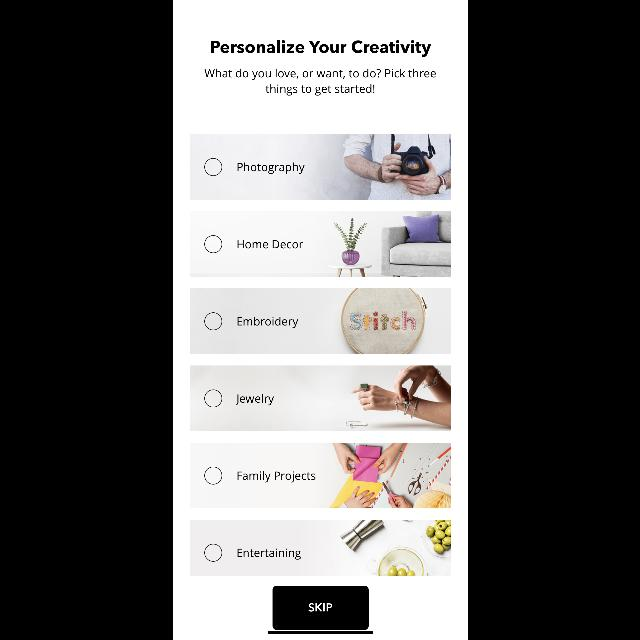backgroundimage: (190, 134, 450, 200), (190, 288, 450, 354), (190, 442, 450, 508), (190, 212, 450, 276), (190, 366, 450, 430), (190, 520, 450, 576)
checkbox: (204, 389, 222, 408), (204, 544, 222, 562), (204, 466, 222, 484), (203, 235, 221, 253), (203, 312, 220, 330), (203, 158, 221, 175)
text: (204, 68, 436, 95), (210, 41, 430, 58), (236, 162, 304, 174), (237, 472, 315, 482), (238, 548, 300, 560), (237, 317, 297, 328), (238, 241, 302, 249), (236, 394, 274, 406)
textbutton: (272, 586, 368, 630)
